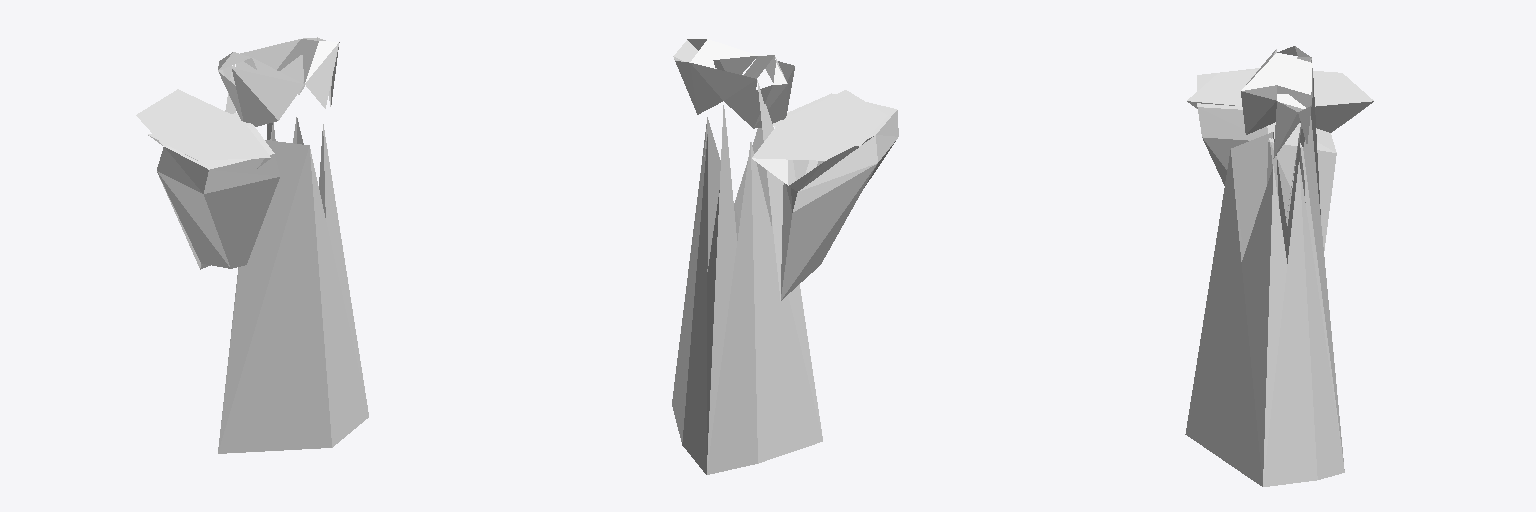
The model's file is SHINY.obj.
3 renders of one model, left to right at view 1: azimuth 30°, elevation 25°; view 2: azimuth 150°, elevation 25°; view 3: azimuth 270°, elevation 25°, orthographic.
Parts seen in each view (by area): view 1: SHINY_node04_face01, SHINY_node04_face00, SHINY_node00_face01, SHINY_node20_face00; view 2: SHINY_node04_face01, SHINY_node04_face00, SHINY_node00_face01, SHINY_node20_face00; view 3: SHINY_node04_face01, SHINY_node04_face00, SHINY_node00_face01, SHINY_node20_face00, SHINY_node01_face04.
Boxes of the visible parts, x1=… form: SHINY_node04_face01: x1=157, y1=39, x2=368, y2=453; SHINY_node04_face00: x1=218, y1=39, x2=338, y2=450; SHINY_node00_face01: x1=137, y1=37, x2=331, y2=167; SHINY_node20_face00: x1=136, y1=89, x2=269, y2=161; SHINY_node04_face01: x1=672, y1=39, x2=898, y2=474; SHINY_node04_face00: x1=690, y1=56, x2=822, y2=459; SHINY_node00_face01: x1=674, y1=59, x2=886, y2=189; SHINY_node20_face00: x1=752, y1=90, x2=887, y2=190; SHINY_node04_face01: x1=1185, y1=46, x2=1344, y2=486; SHINY_node04_face00: x1=1231, y1=53, x2=1344, y2=469; SHINY_node00_face01: x1=1187, y1=70, x2=1373, y2=157; SHINY_node20_face00: x1=1187, y1=70, x2=1373, y2=123; SHINY_node01_face04: x1=1247, y1=101, x2=1297, y2=158.
Size of the model in its own units: 481 by 889 by 376.